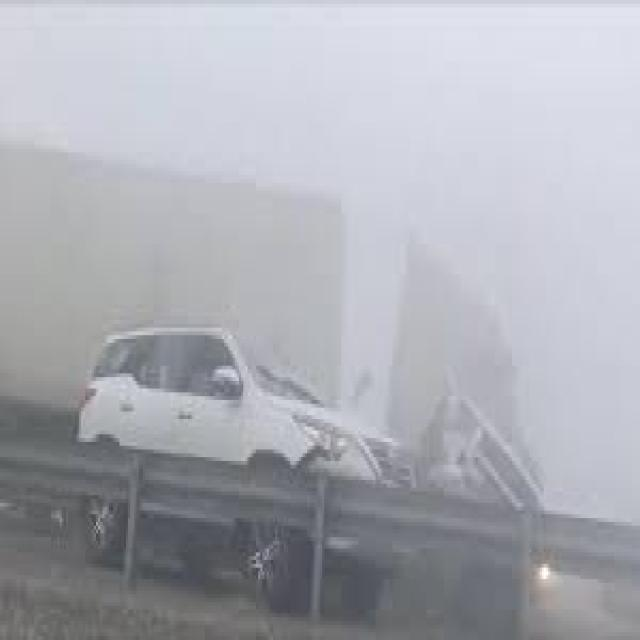Accident: (77, 316, 544, 640)
